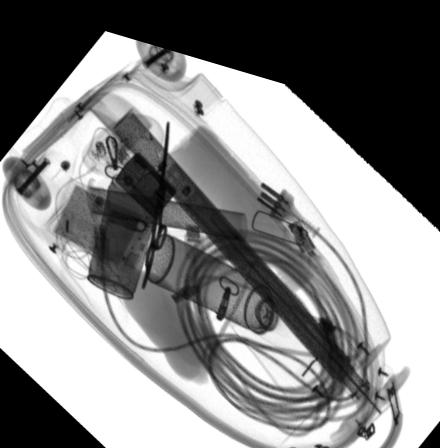Lighter: (114, 142, 178, 209)
Powerbank: (45, 170, 154, 267)
Scissors: (138, 110, 171, 282)
Sprayer: (143, 223, 305, 333)
